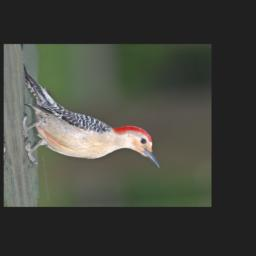Woodpecker: (13, 54, 163, 180)
